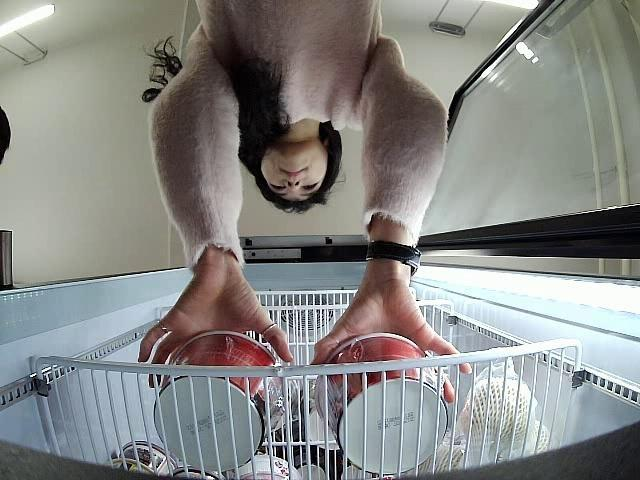01_ShinRamen_L: (316, 331, 450, 476), (152, 332, 286, 473)
